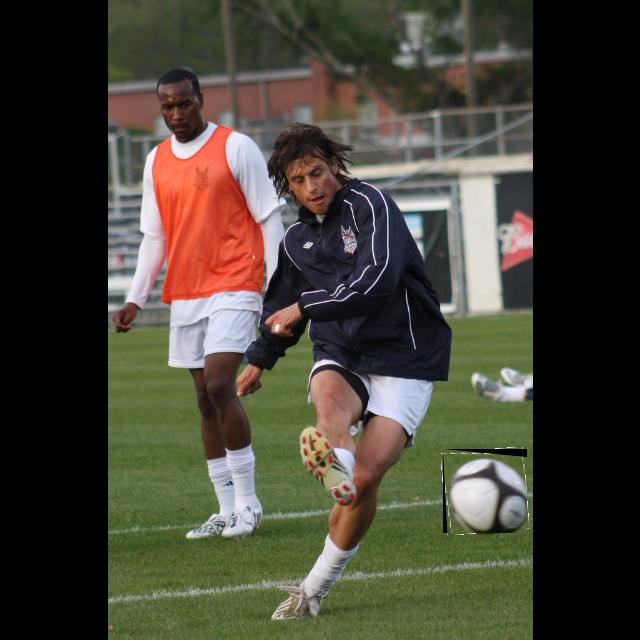Football: (443, 449, 527, 533)
